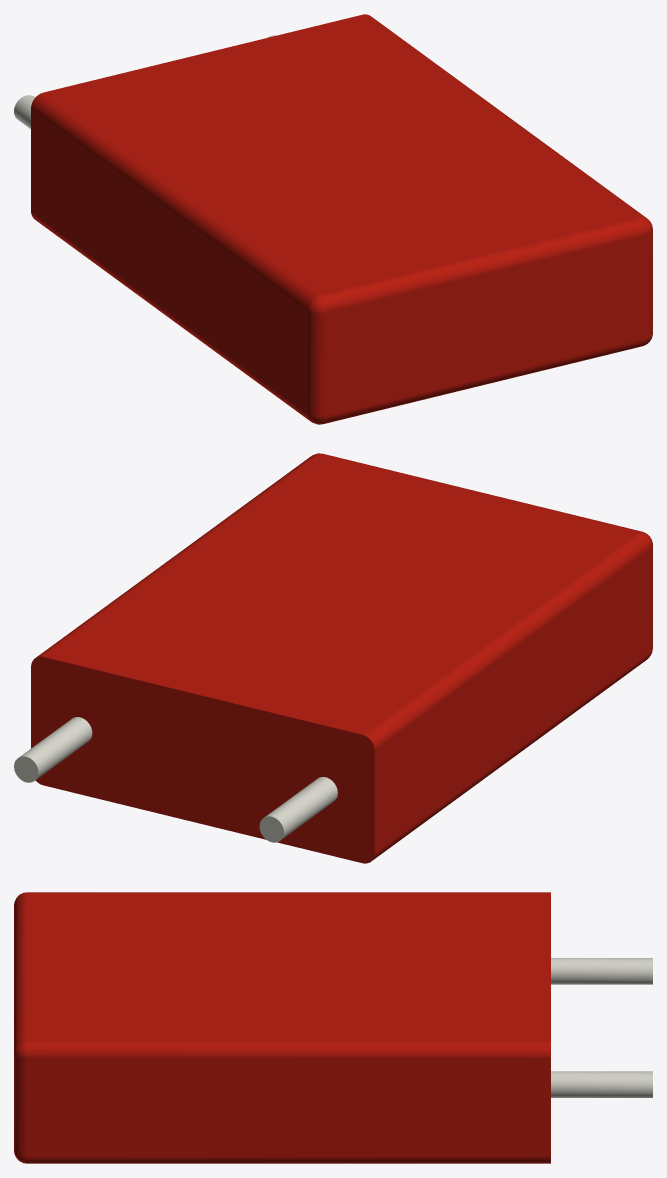
Rendered from c-rect-l7.0-w2.5-p5.00.glb.
The picture shows the model from 3 angles, top to bottom: view 1: azimuth 30°, elevation 25°; view 2: azimuth 150°, elevation 25°; view 3: azimuth 270°, elevation 25°; orthographic projection. The views are drawn at different scales.
Parts seen in each view (by area): view 1: RED-BODY; view 2: RED-BODY, PIN-01; view 3: RED-BODY, PIN-01.
Part boxes in pixels (bbox=[...]): RED-BODY: bbox=[31, 14, 652, 424]; RED-BODY: bbox=[31, 453, 652, 863]; PIN-01: bbox=[14, 717, 337, 842]; RED-BODY: bbox=[14, 892, 550, 1163]; PIN-01: bbox=[551, 958, 652, 1097].
Bounding box in the file's own units: 7 × 2.5 × 11.9.
